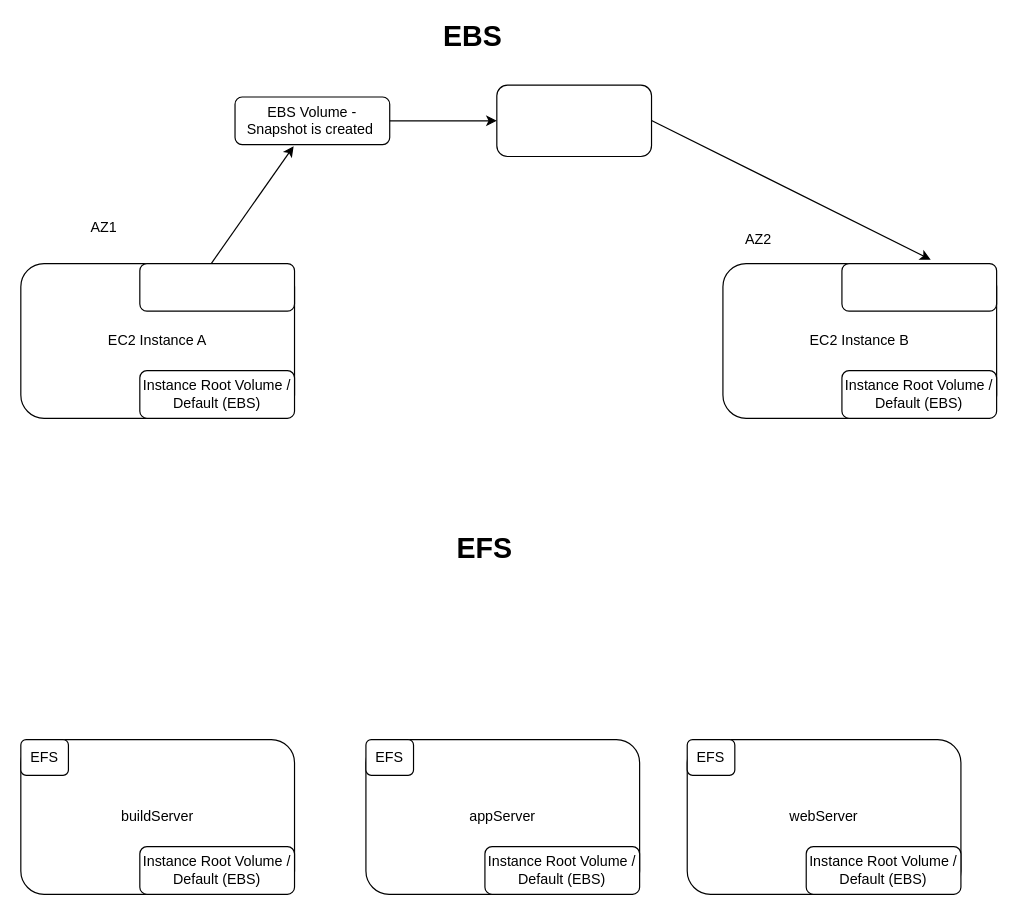
Some shapes in this 1017 by 915 pixel diagram are drawn without their labels. The centre of each missing label's shape, as x and y in pixels:
Created EBS Volume from Snapshot: [919,286]
Created EBS Volume from the Snapshot: AZ1 --> AZ2: [574,120]
EBS Volume (Newly Created): [217,286]
